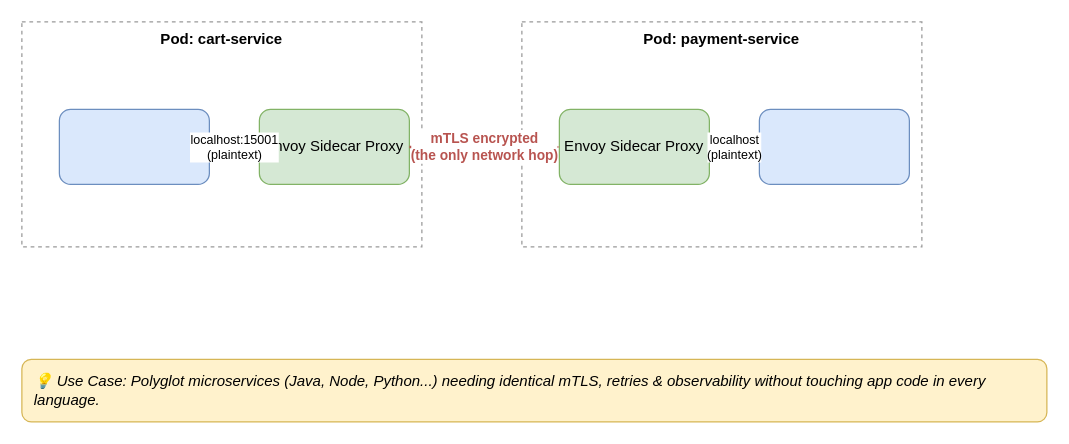
This 1069x444 diagram has some shape labels left out. The centre of each missing label's shape, as x and y in pixels:
"App Container cart-service" goes at pixel 133 146.
"App Container payment-service" goes at pixel 833 146.
